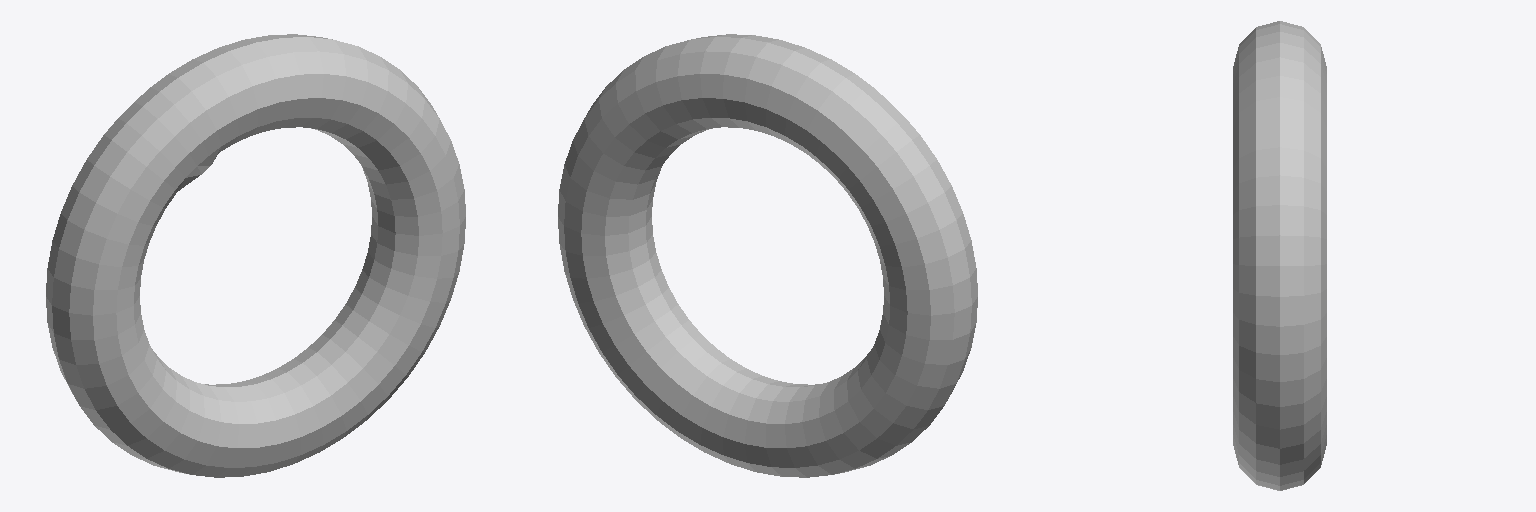
Rendered from irtorus.obj.
3 renders of one model, left to right at view 1: azimuth 30°, elevation 25°; view 2: azimuth 150°, elevation 25°; view 3: azimuth 270°, elevation 25°, orthographic.
Parts seen in each view (by area): view 1: Torus; view 2: Torus; view 3: Torus.
Part boxes in pixels (left/top/right/bottom): Torus: left=46, top=34, right=465, bottom=477; Torus: left=558, top=34, right=977, bottom=477; Torus: left=1233, top=21, right=1326, bottom=490.
Size of the model in its own units: 2.5 by 2.5 by 0.5.